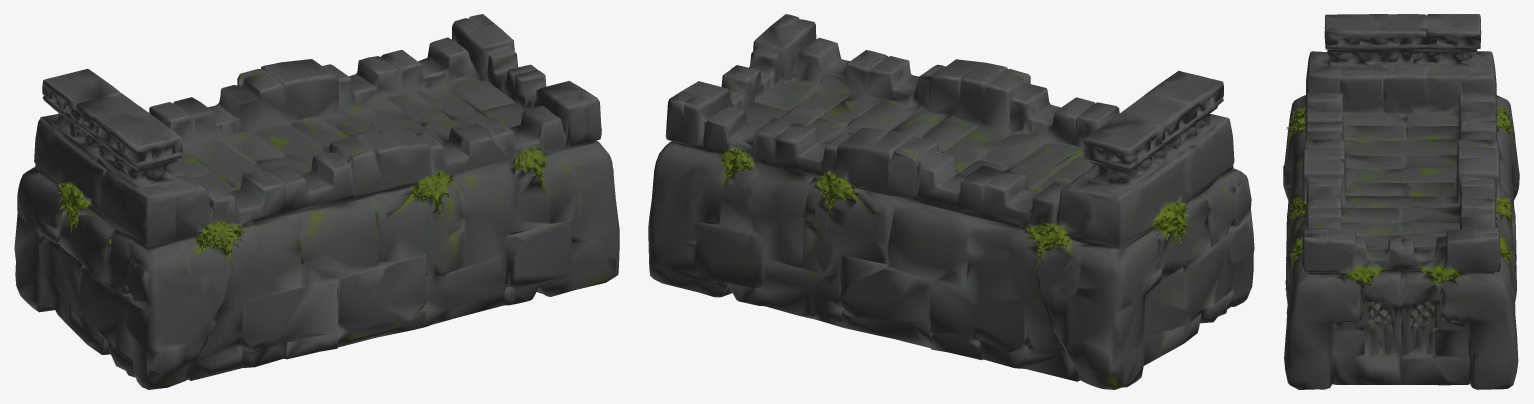
Rendered from og_block_long.glb.
The picture shows the model from 3 angles, left to right: view 1: azimuth 30°, elevation 25°; view 2: azimuth 150°, elevation 25°; view 3: azimuth 270°, elevation 25°; orthographic projection. The views are drawn at different scales.
Bounding box in the file's own units: 1.87 × 0.8541 × 0.9659.
Materials: 1 (1 with a texture image).
